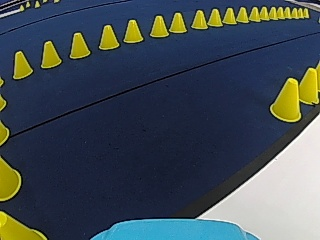cone: (270, 78, 301, 121), (1, 212, 47, 239), (0, 158, 21, 200), (297, 69, 319, 104), (40, 40, 62, 68), (12, 50, 33, 79), (69, 32, 90, 58), (124, 19, 144, 43), (99, 26, 119, 49), (150, 15, 168, 38), (169, 11, 186, 33), (191, 9, 207, 29), (207, 8, 223, 27), (0, 121, 11, 147), (223, 7, 236, 25), (236, 6, 249, 23), (248, 7, 260, 22), (259, 7, 269, 20), (269, 7, 277, 19), (284, 7, 291, 19), (277, 7, 284, 19), (291, 7, 298, 18), (298, 8, 303, 18)
